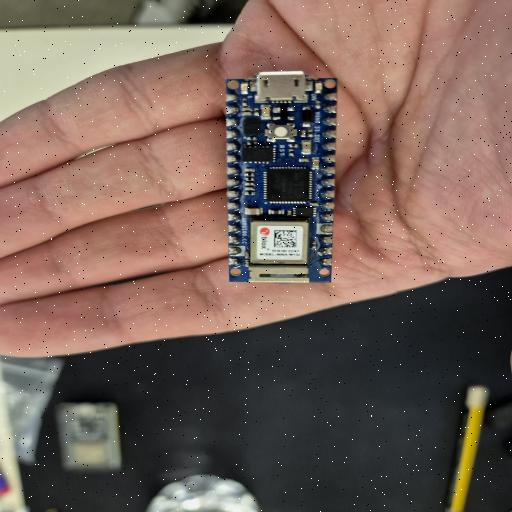arduino-nano-iot-33: (222, 76, 334, 284)
